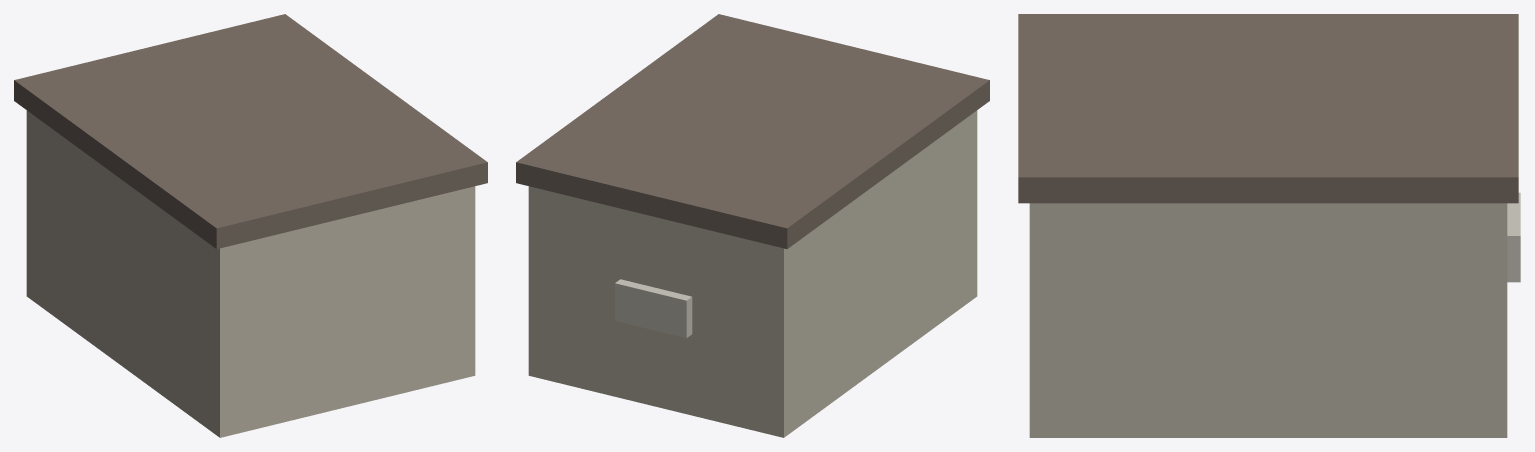
The model's file is document_box.glb.
3 views of the same model, side by side, from view 1: azimuth 30°, elevation 25°; view 2: azimuth 150°, elevation 25°; view 3: azimuth 270°, elevation 25° (orthographic). The views are drawn at different scales.
Visible parts, largest first — view 1: body; view 2: body; view 3: body.
Boxes of the visible parts, box(x1,y1,x2,y2) form: body: box(14, 14, 487, 437); body: box(516, 14, 989, 437); body: box(1018, 14, 1520, 437).
Size of the model in its own units: 0.34 by 0.2575 by 0.442.
